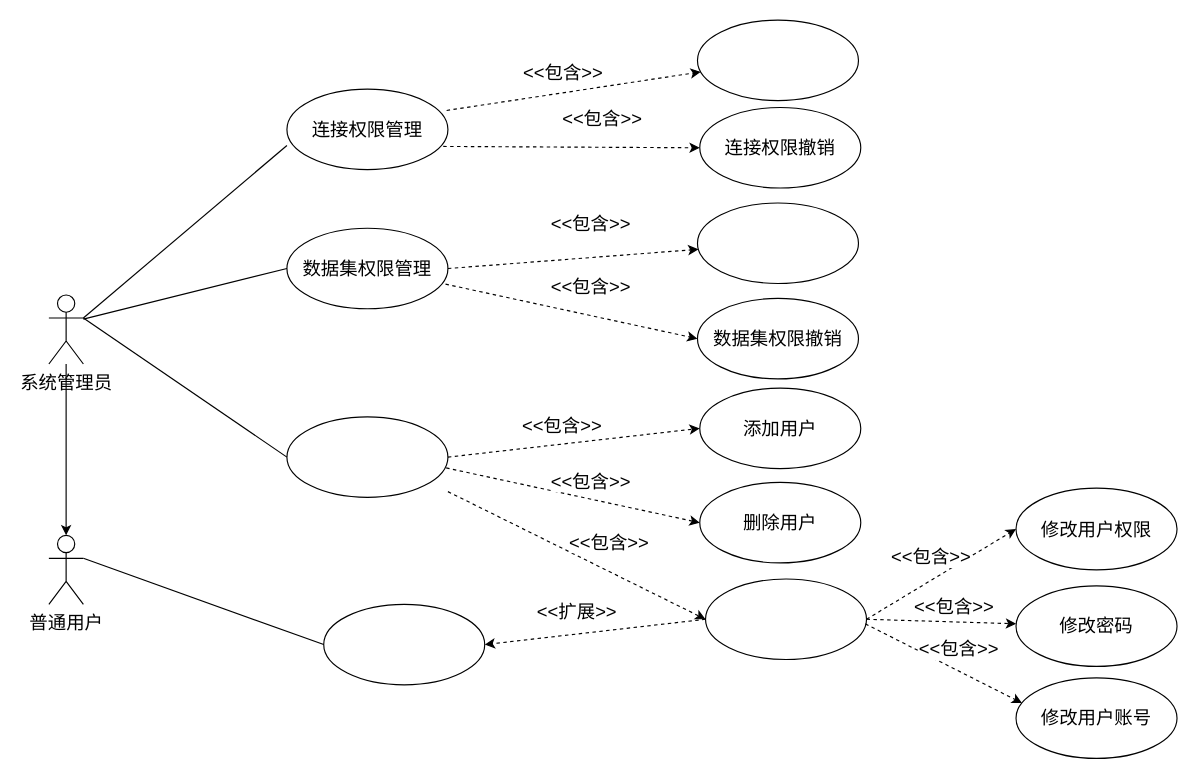
This 1197x779 diagram has some shape labels left out. The centre of each missing label's shape, as x and y in pixels:
数据集授权: [777,242]
用户信息管理: [785,619]
用户管理: [367,456]
登录: [404,644]
连接授权: [777,60]
